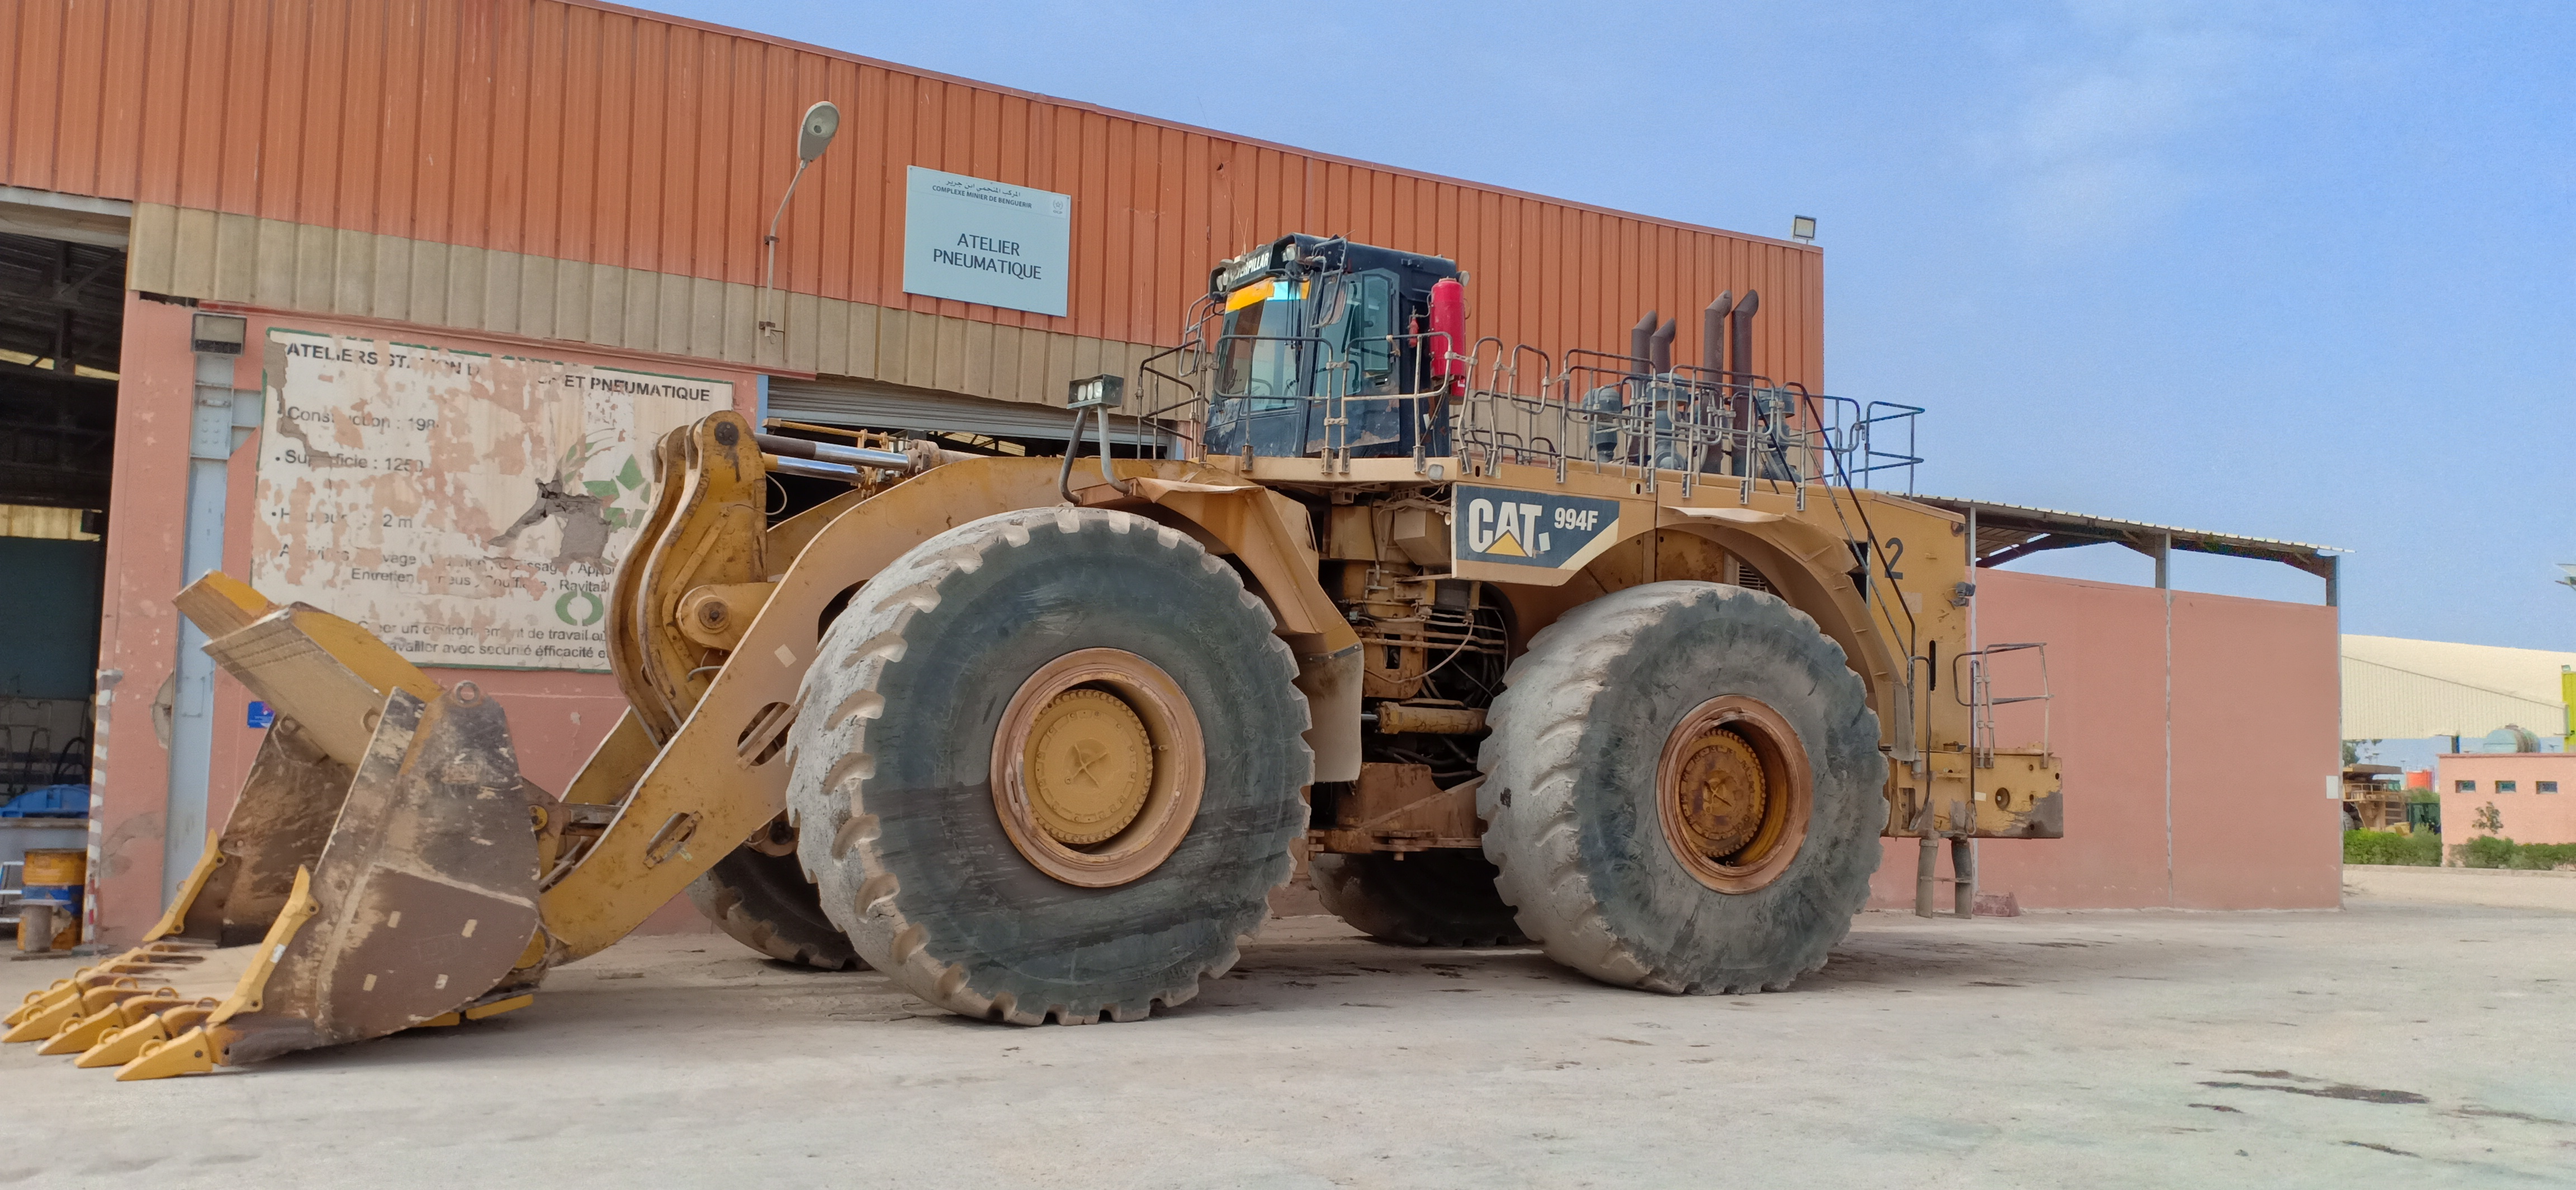chargeuse: (31, 250, 2098, 1129)
